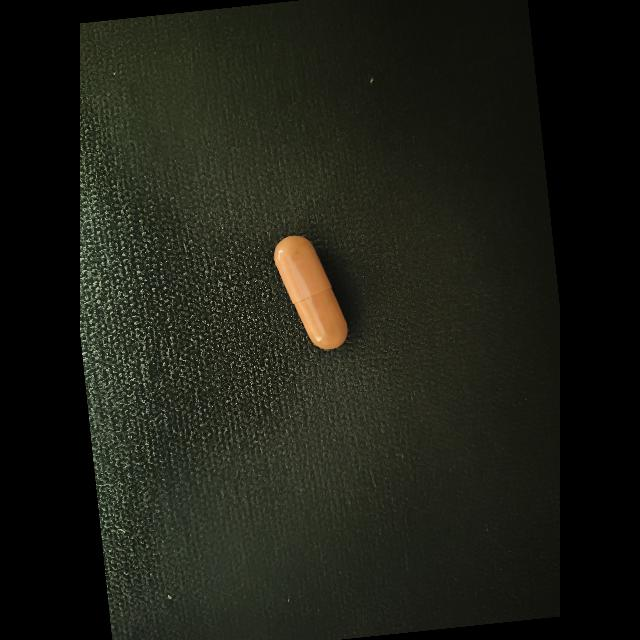Intact Capsule: (274, 236, 347, 350)
